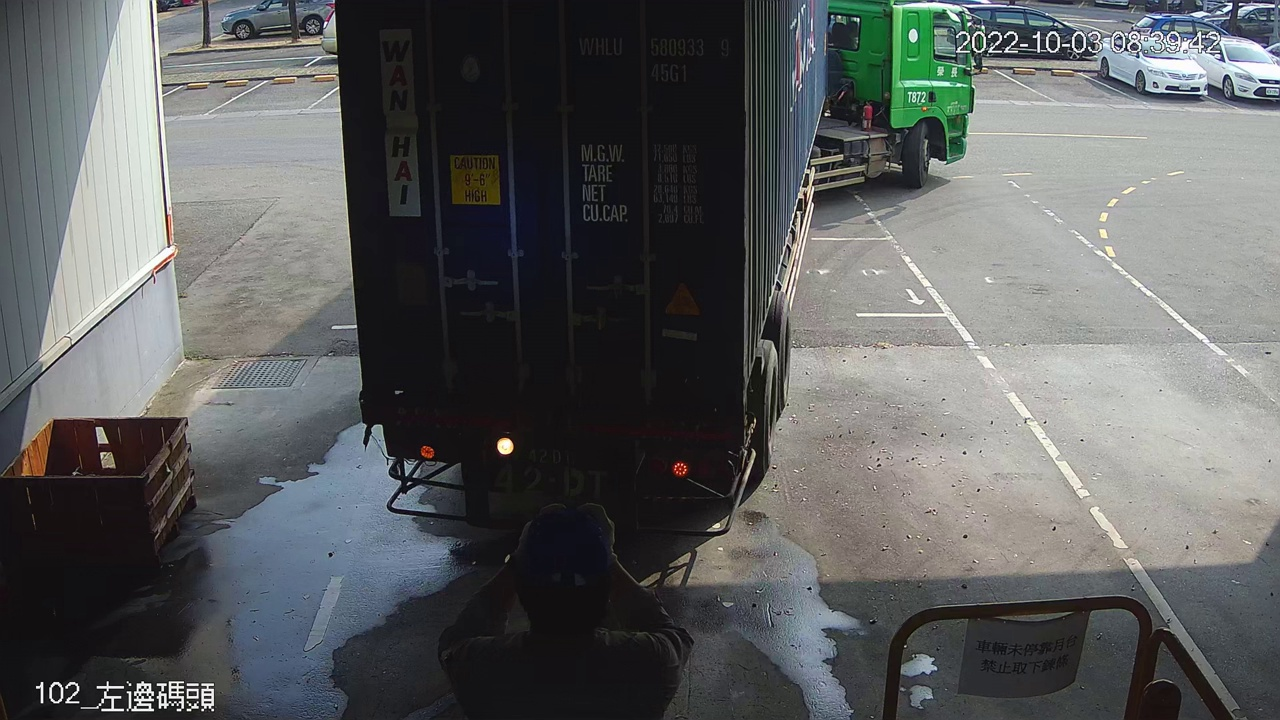container: (574, 31, 741, 88)
